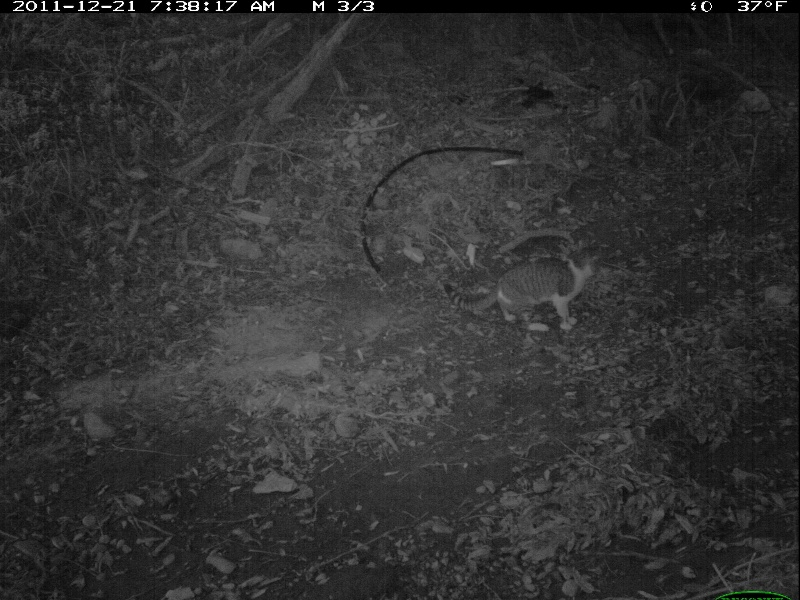cat: (446, 245, 603, 336)
